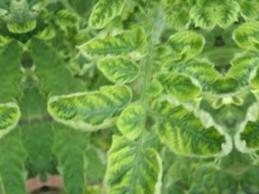Tomato leaf yellow virus: (141, 88, 234, 174), (30, 74, 135, 139), (81, 144, 171, 194), (67, 26, 147, 73), (155, 67, 205, 108), (154, 27, 207, 65), (97, 52, 142, 86), (83, 0, 134, 28), (177, 0, 216, 27), (50, 8, 82, 31)
